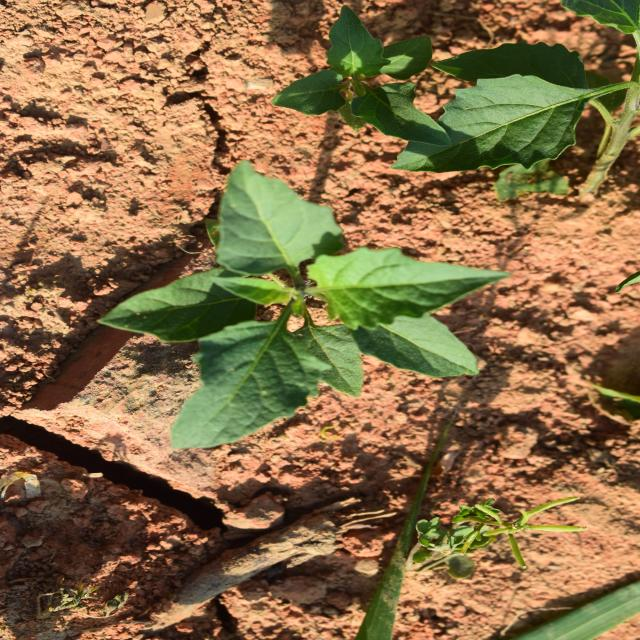Black_nightshade: (195, 137, 454, 514), (29, 187, 140, 364)
